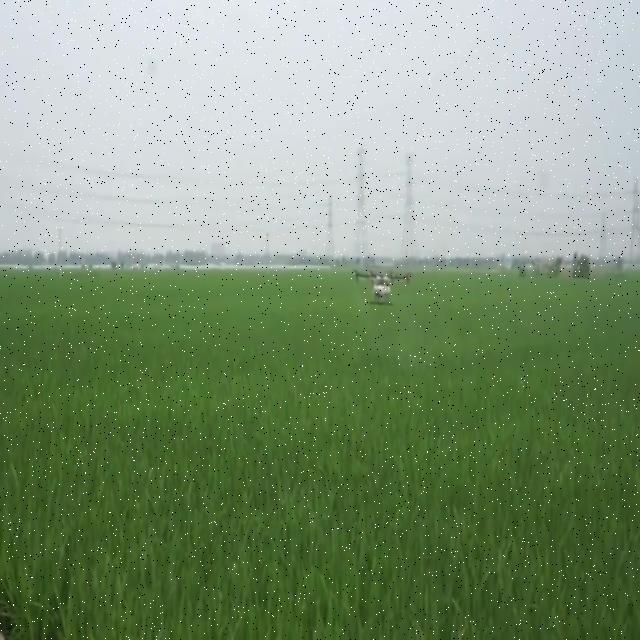UAV: (353, 267, 413, 309)
